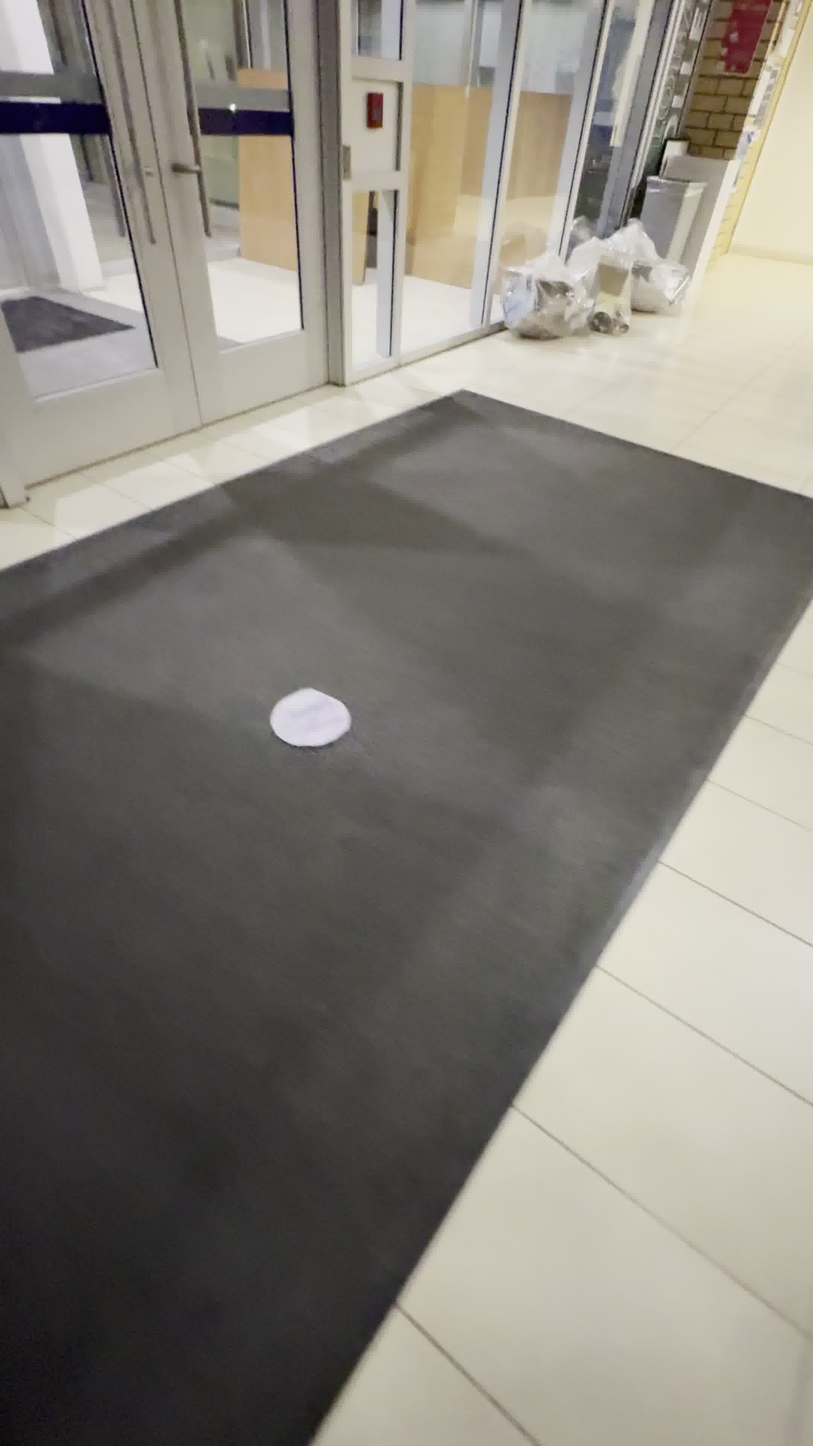Target: (268, 686, 353, 749)
